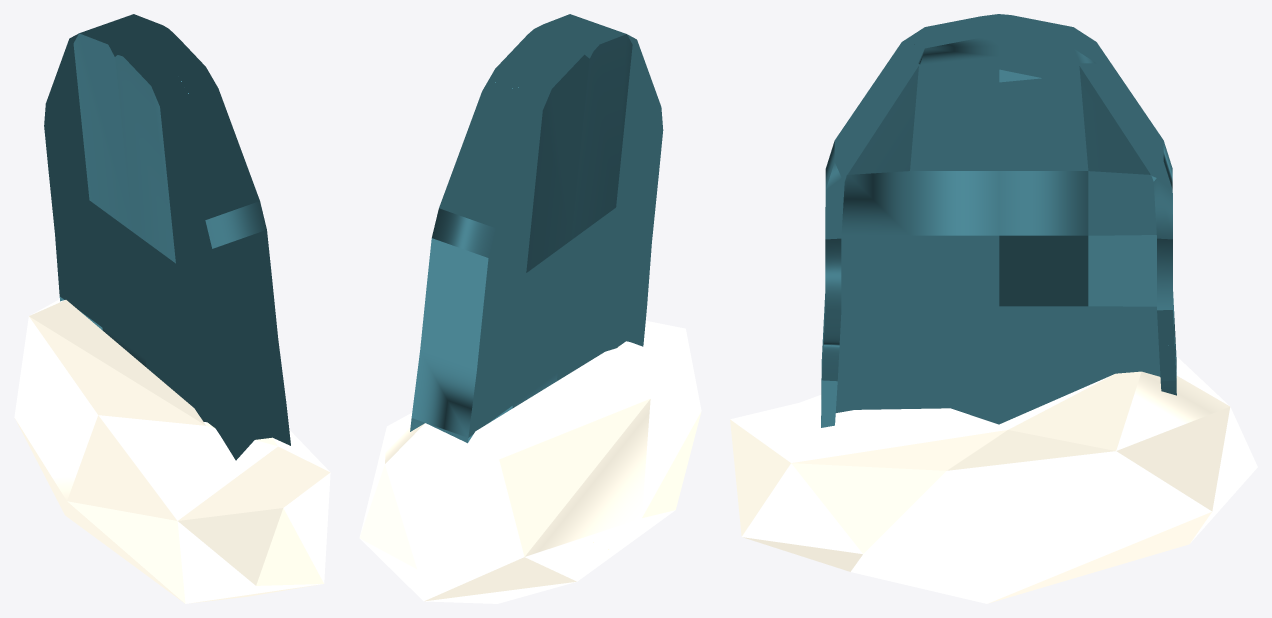
File: TombstoneAsset.fbx
3 renders of one model, left to right at view 1: azimuth 30°, elevation 25°; view 2: azimuth 150°, elevation 25°; view 3: azimuth 270°, elevation 25°, orthographic. The views are drawn at different scales.
Visible parts, largest first — view 1: Tombstone; view 2: Tombstone; view 3: Tombstone.
Part boxes in pixels (left/top/right/bottom): Tombstone: left=14, top=14, right=330, bottom=603; Tombstone: left=359, top=14, right=701, bottom=603; Tombstone: left=730, top=14, right=1257, bottom=603.
Size of the model in its own units: 145 by 354 by 317.
